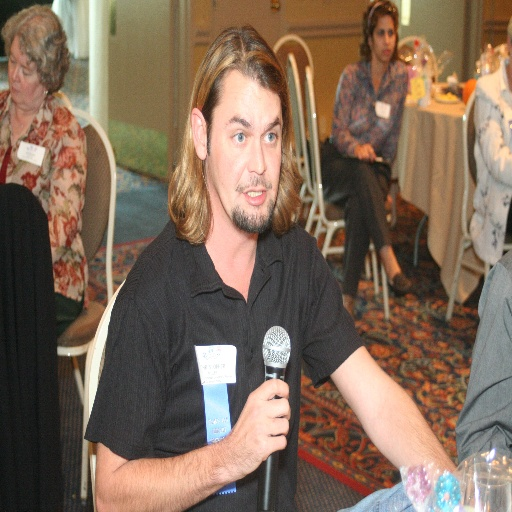hand: (232, 375, 309, 467), (352, 141, 378, 164)
